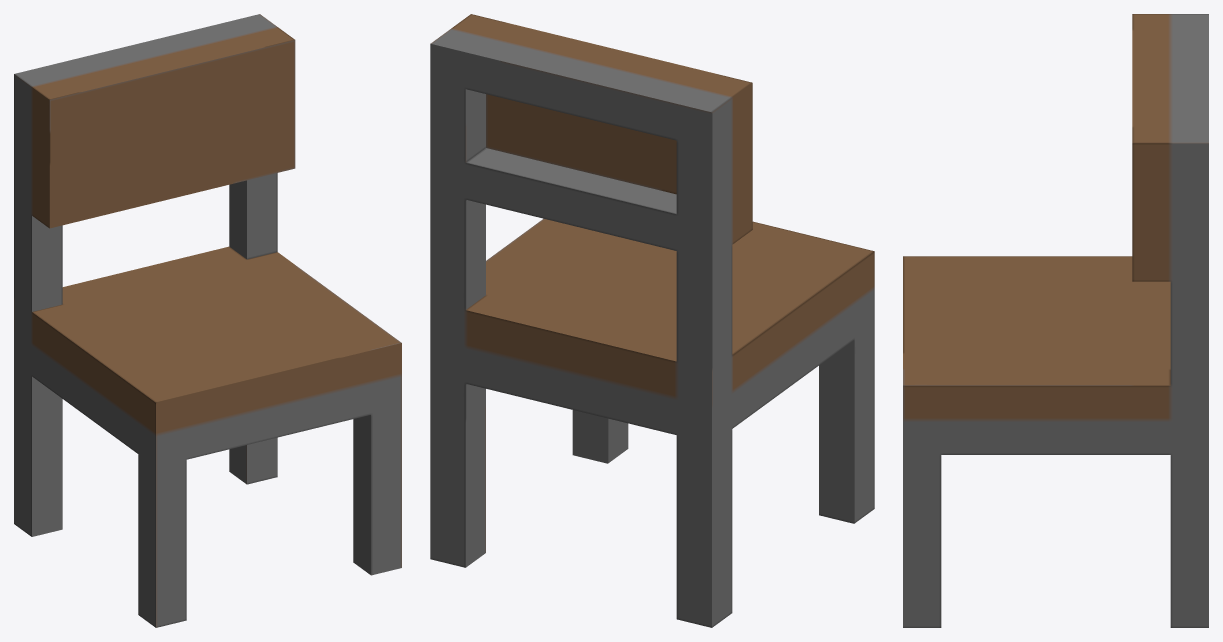
The model's file is Chair_12.fbx.
3 views of the same model, side by side, from view 1: azimuth 30°, elevation 25°; view 2: azimuth 150°, elevation 25°; view 3: azimuth 270°, elevation 25° (orthographic). The views are drawn at different scales.
Visible parts, largest first — view 1: Chair_12.001; view 2: Chair_12.001; view 3: Chair_12.001.
Part boxes in pixels (x1,y1,x2,y2): Chair_12.001: (14,14,401,627); Chair_12.001: (430,14,874,627); Chair_12.001: (903,14,1208,627).
Size of the model in its own units: 0.8 by 1.4 by 0.8.
1 material, 1 textured.
